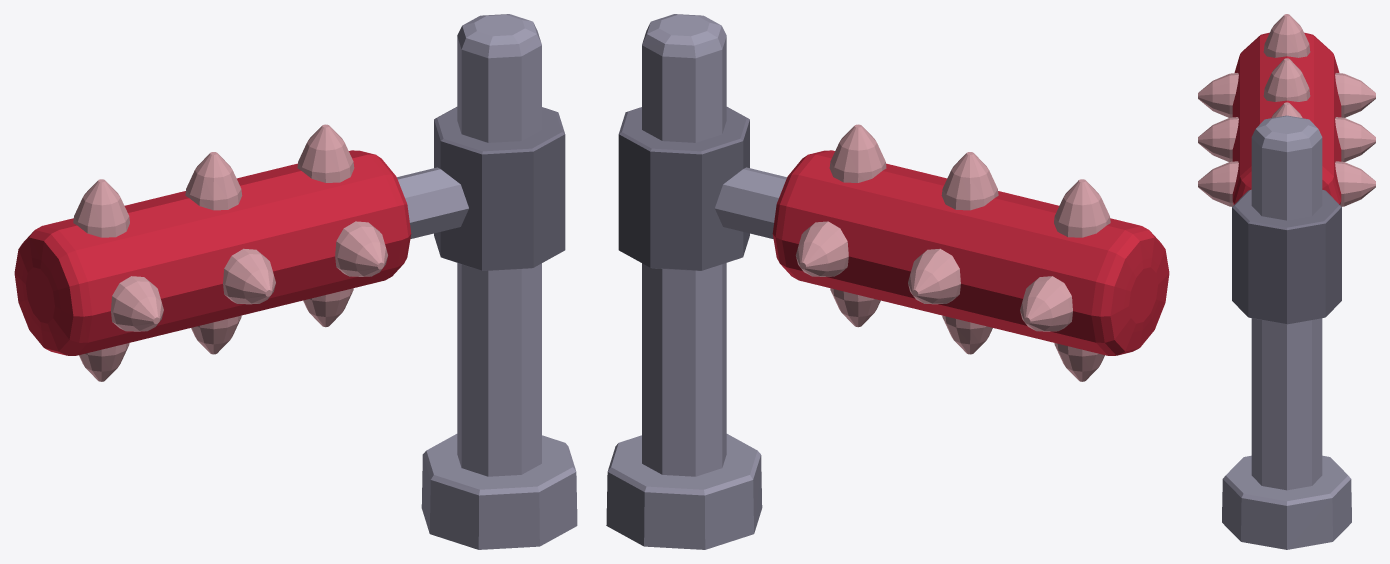
The model's file is Hurdle5.fbx.
3 views of the same model, side by side, from view 1: azimuth 30°, elevation 25°; view 2: azimuth 150°, elevation 25°; view 3: azimuth 270°, elevation 25° (orthographic). The views are drawn at different scales.
Visible parts, largest first — view 1: Hurdle5; view 2: Hurdle5; view 3: Hurdle5.
Part boxes in pixels (box(x1,y1,x2,y2)): Hurdle5: box(14, 14, 577, 549); Hurdle5: box(606, 14, 1169, 549); Hurdle5: box(1198, 14, 1375, 549).
Bounding box in the file's own units: 2.02 × 1.79 × 0.7274.
1 material, 1 textured.
